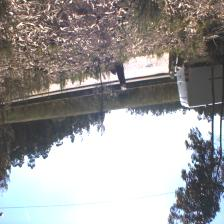trunktrack_idkeyframe: (213, 64, 218, 101), (220, 62, 224, 99)
